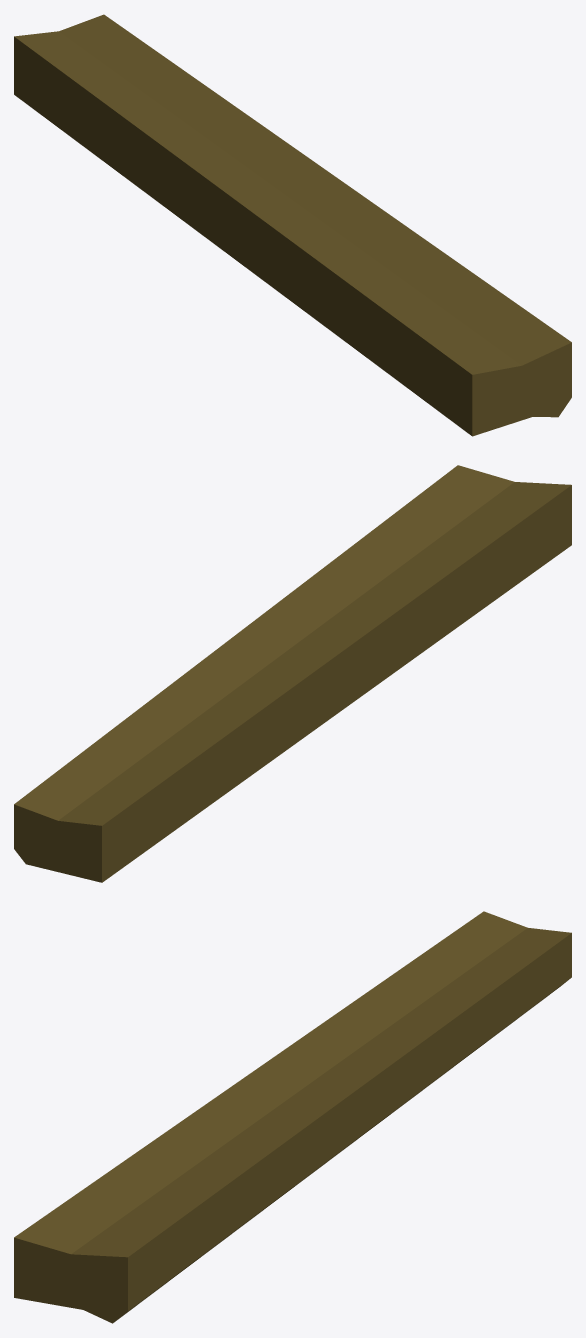
The model's file is Prop_Timber_Fire_01.fbx.
3 renders of one model, top to bottom at view 1: azimuth 30°, elevation 25°; view 2: azimuth 150°, elevation 25°; view 3: azimuth 330°, elevation 25°, orthographic. The views are drawn at different scales.
Visible parts, largest first — view 1: Prop_Timber_Fire_01; view 2: Prop_Timber_Fire_01; view 3: Prop_Timber_Fire_01.
Part boxes in pixels (box(x1,y1,x2,y2)): Prop_Timber_Fire_01: box(14, 14, 571, 436); Prop_Timber_Fire_01: box(14, 465, 571, 882); Prop_Timber_Fire_01: box(14, 911, 571, 1323).
Size of the model in its own units: 200 by 125 by 1507.
